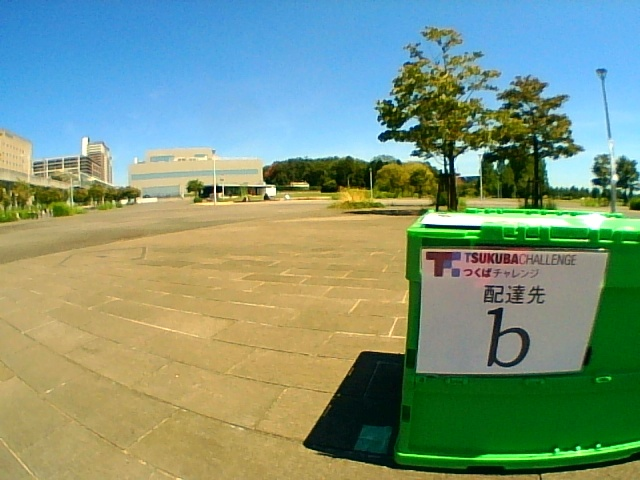green_box: (394, 208, 640, 467)
tag_b: (423, 250, 582, 374)
